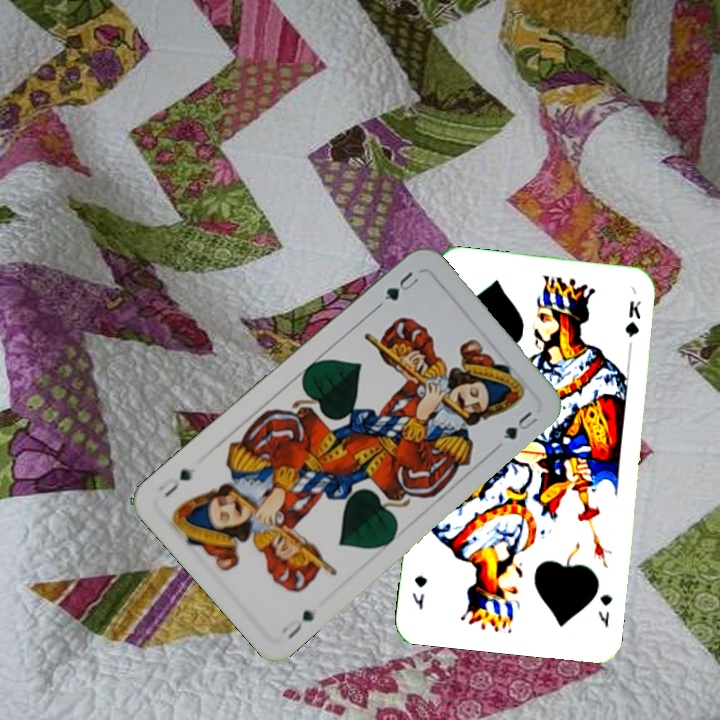GK: (594, 590, 615, 630)
GU: (373, 267, 422, 310), (277, 606, 319, 642)
